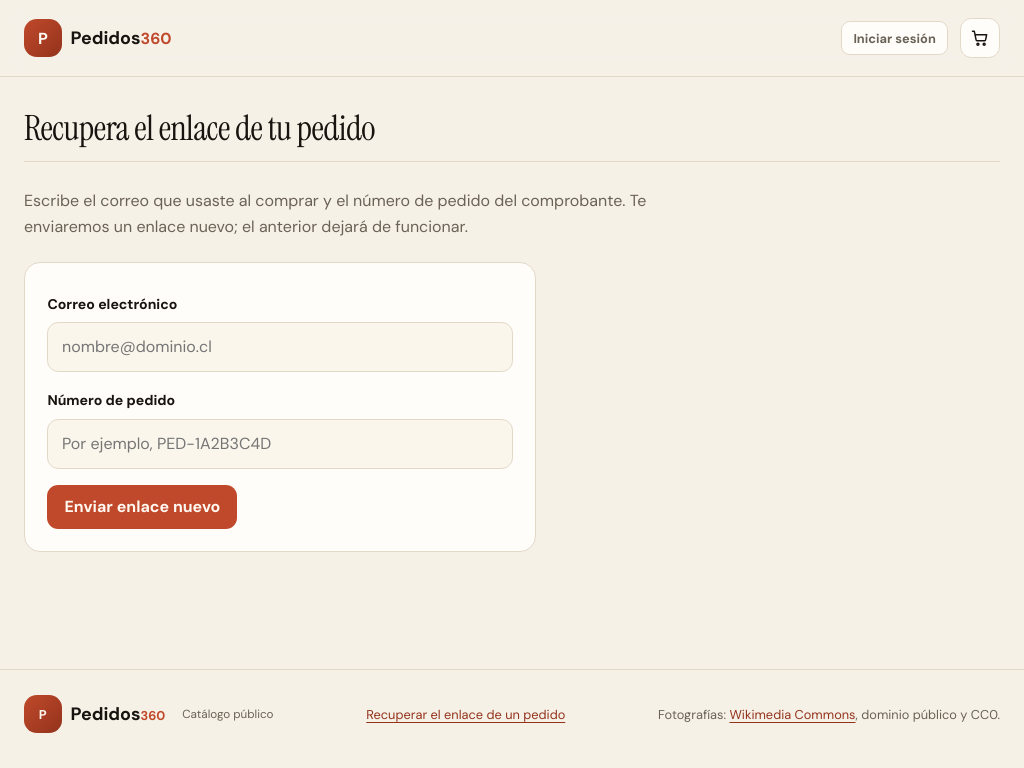
it: GuestLinkRequestPage › envía el correo y el número sin sesión y muestra el mensaje neutral
The image size is (1024, 768).
Type " lucia@duocuc.cl " into the field labelled "Correo electrónico" at (280, 347), box top-left (47, 322), bottom-right (513, 372)
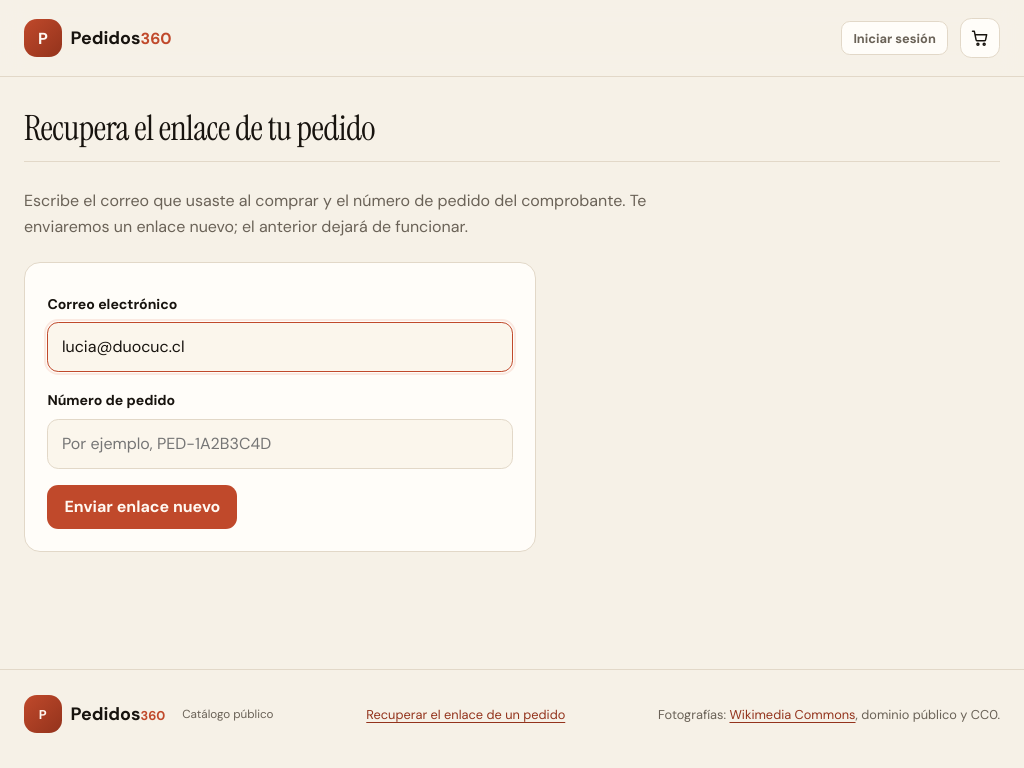
Type " PED-7 " into the field labelled "Número de pedido" at (280, 444), box top-left (47, 419), bottom-right (513, 469)
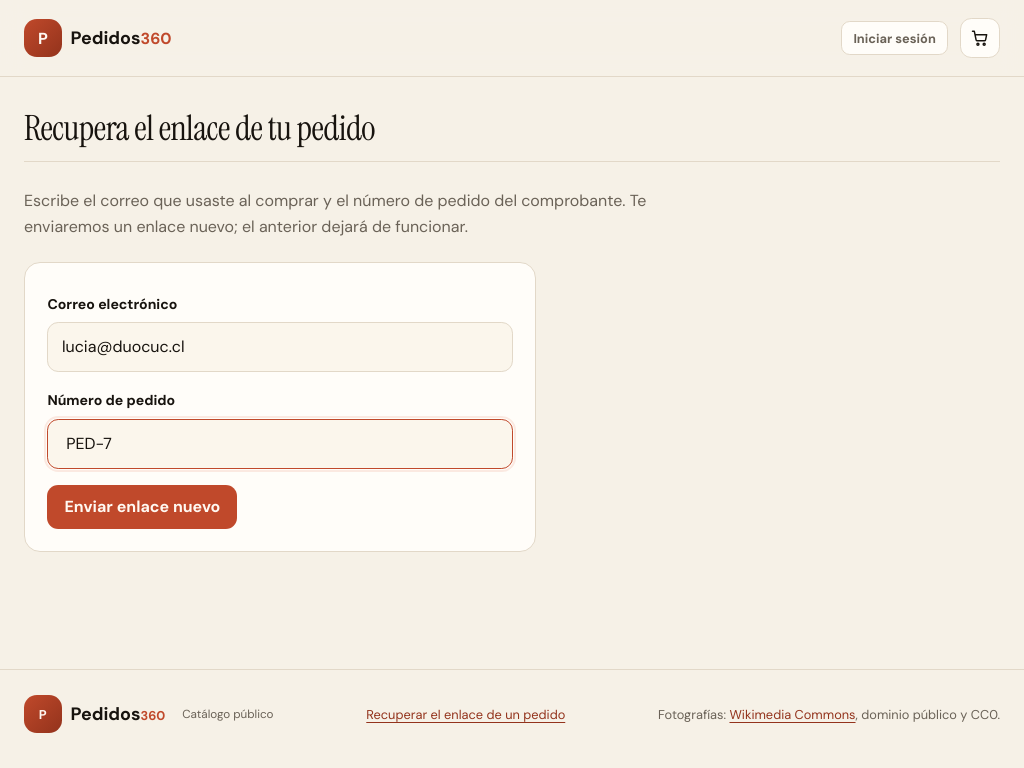
Click the button "Enviar enlace nuevo" at (142, 507), box top-left (47, 485), bottom-right (237, 529)
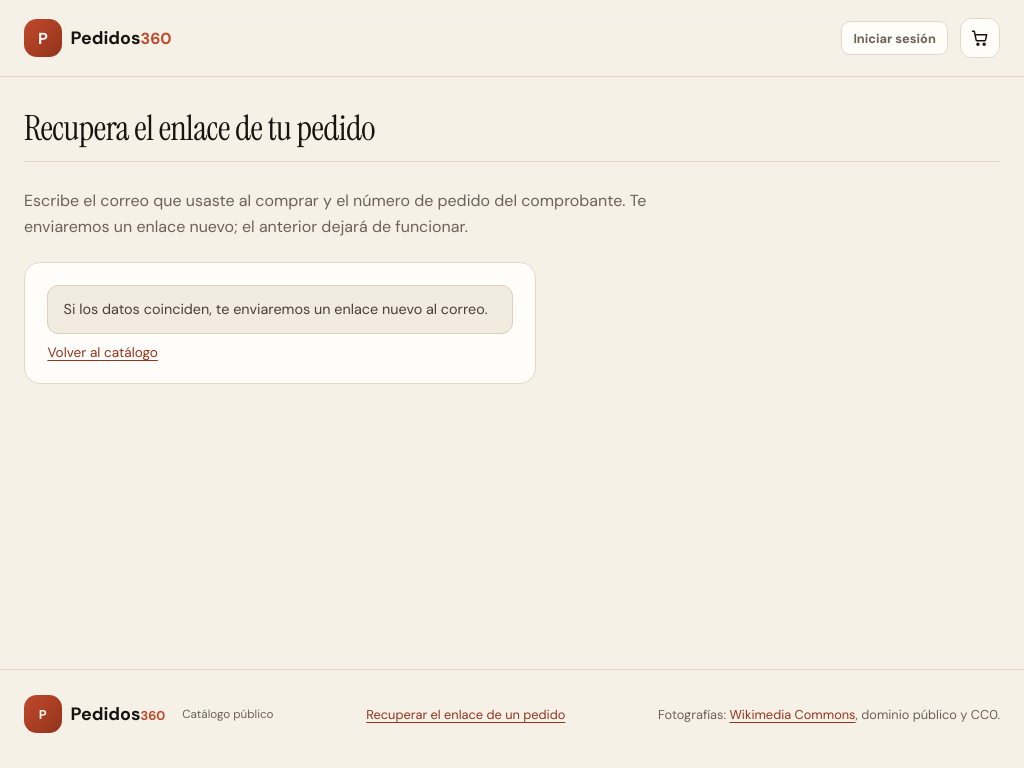
Check: the text "Si los datos coinciden, te enviaremos un enlace nuevo al correo." is shown, box top-left (47, 285), bottom-right (513, 334)
